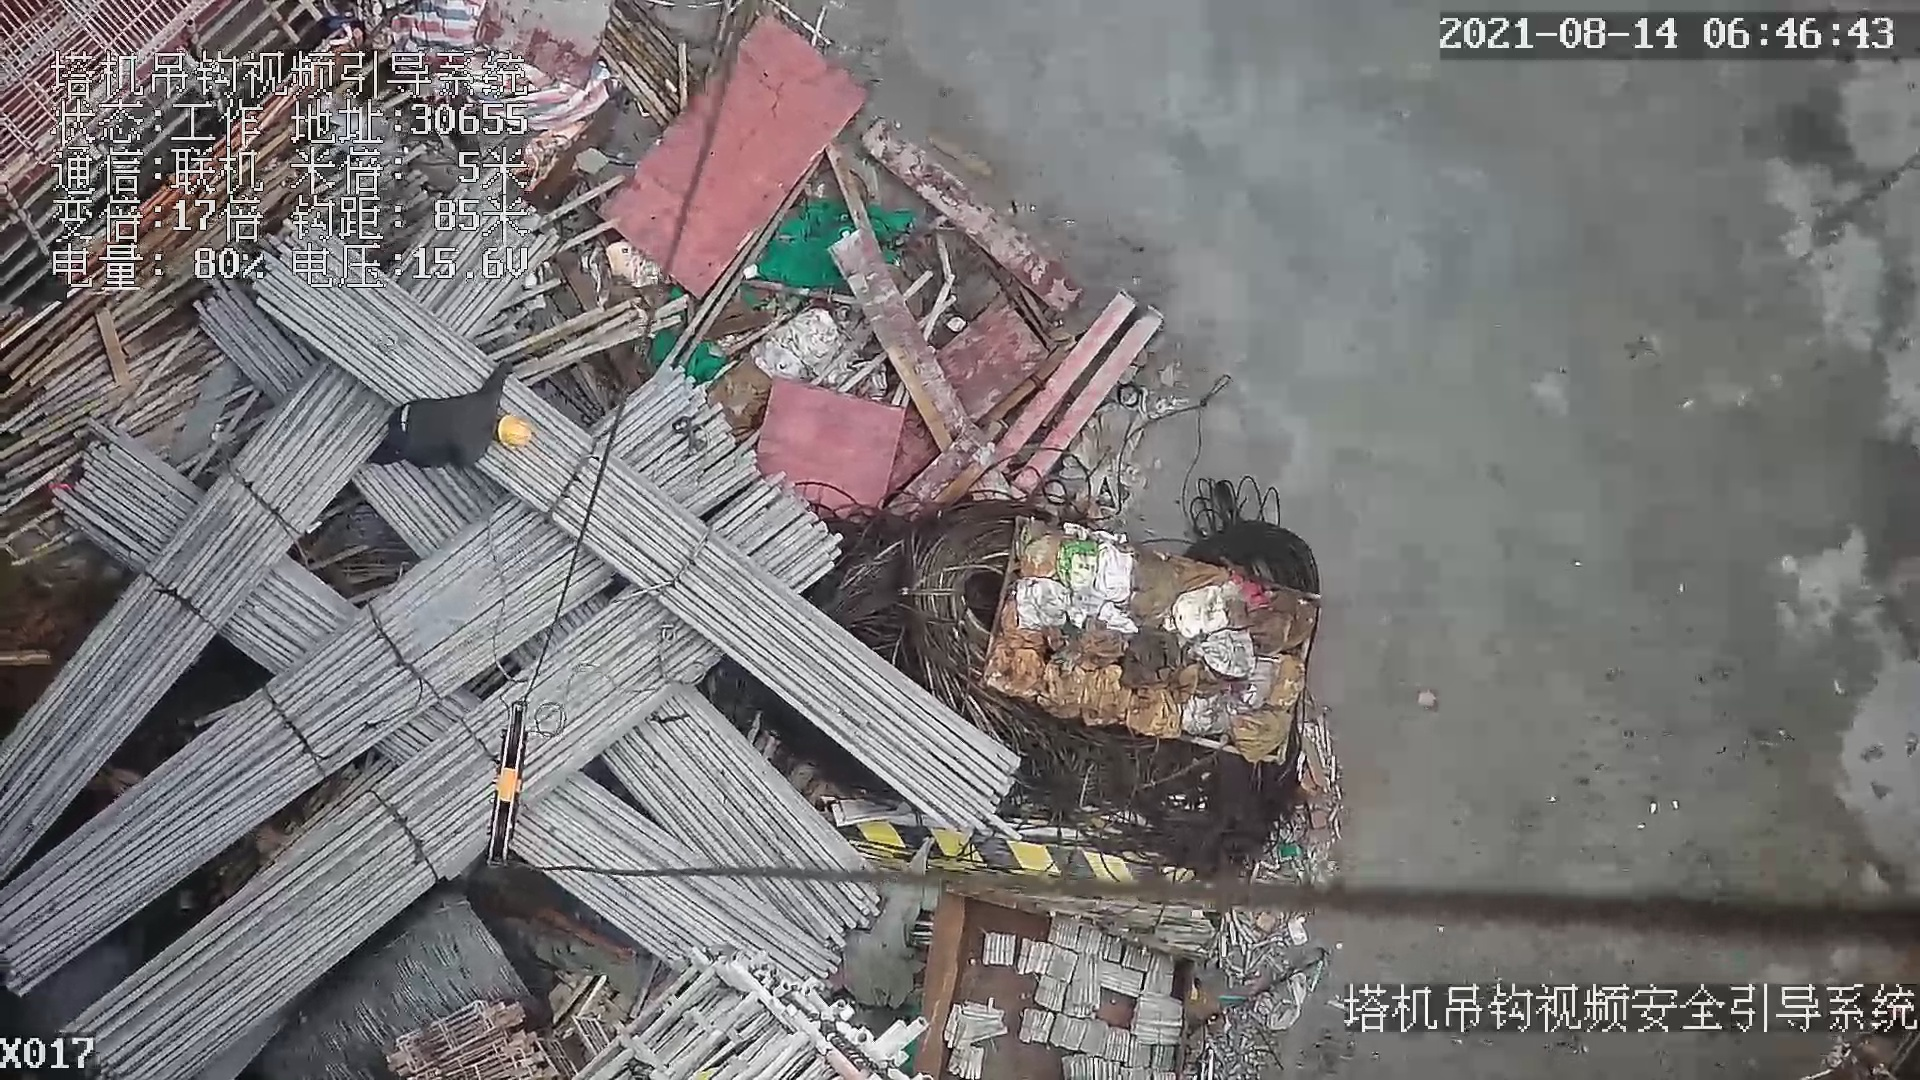board: (597, 12, 858, 283)
helmet: (496, 416, 536, 452)
hook: (485, 697, 538, 876)
person: (370, 362, 549, 480)
